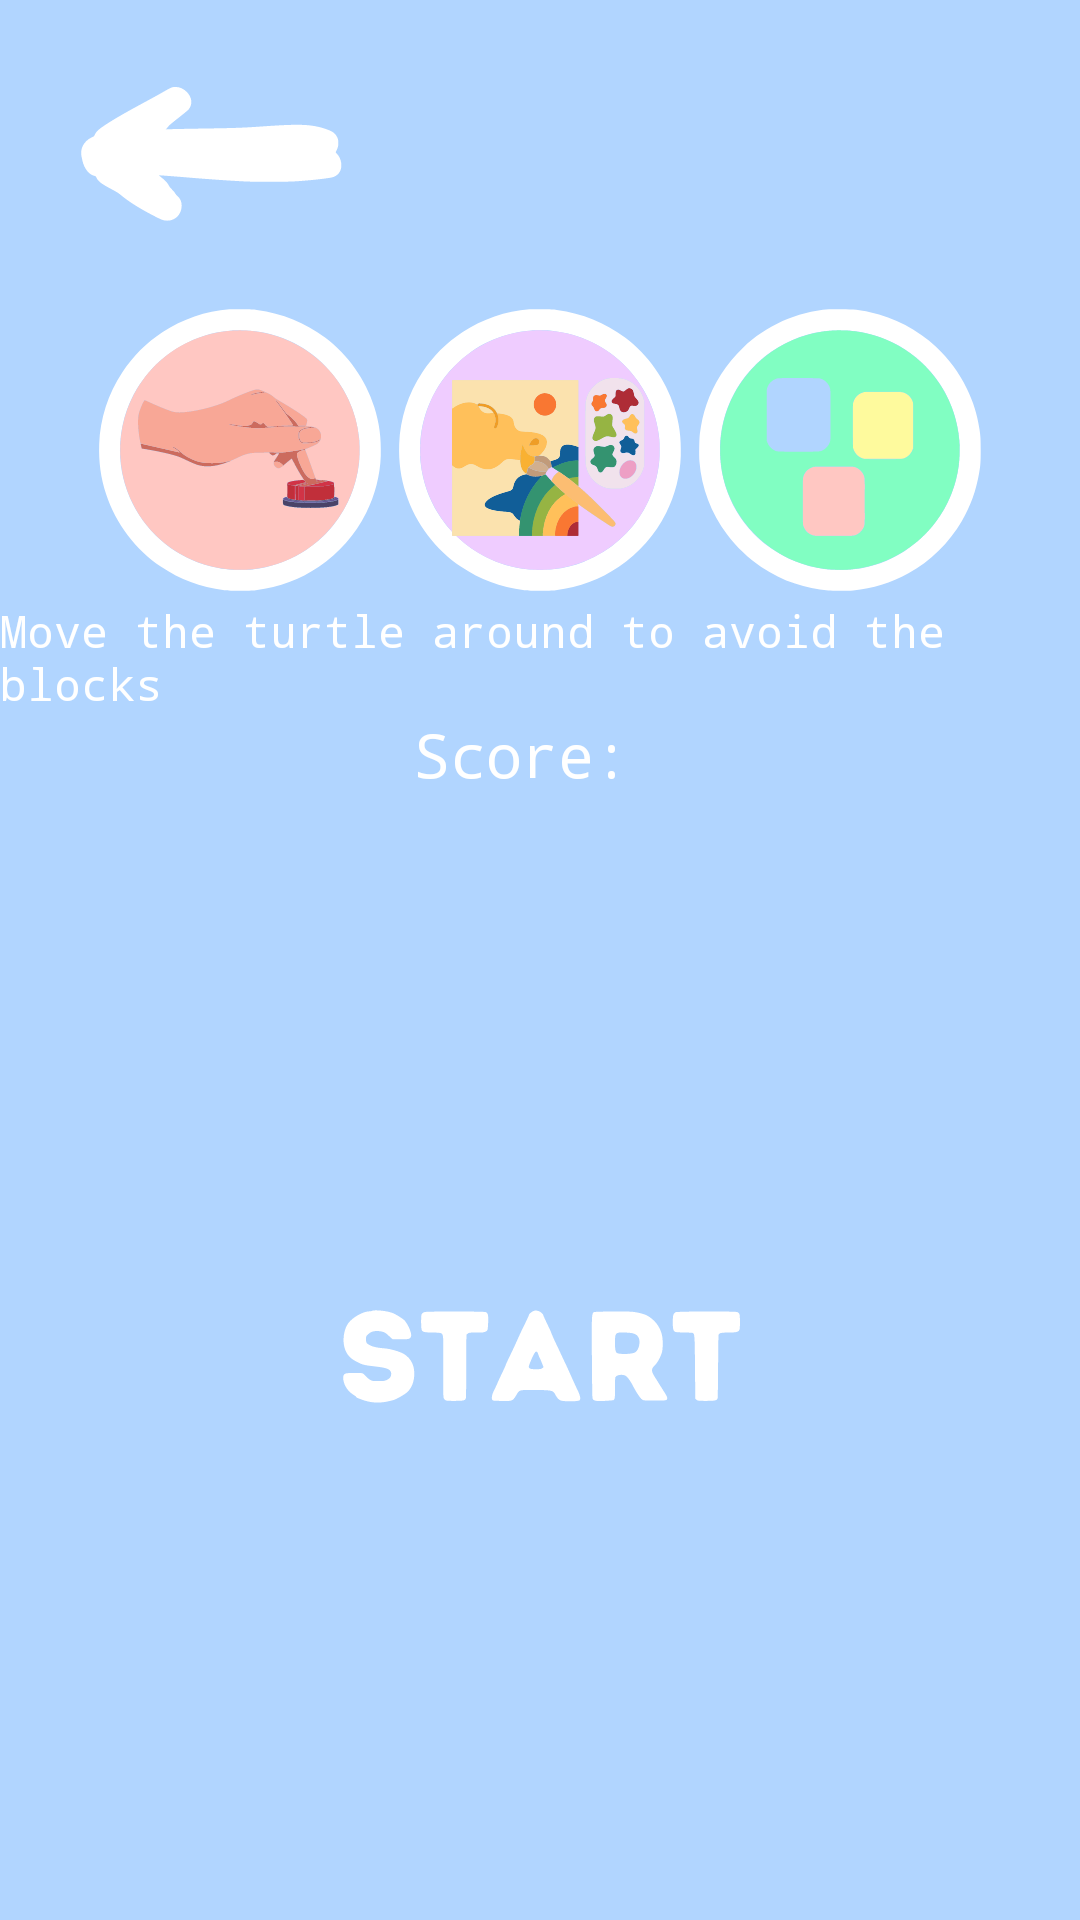

Icon click points for this 1080x1920 phone screenshot, format [x,y]:
backarrow: [211,154]
click switch: [240,450]
draw: [540,450]
